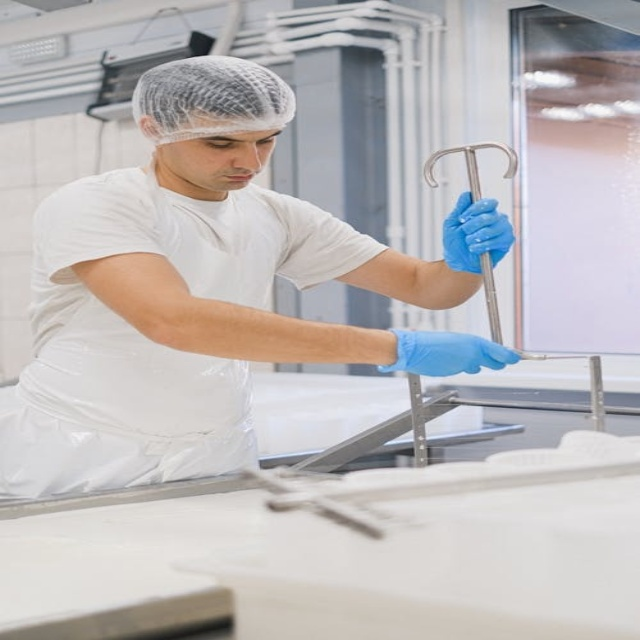Guantes: (377, 328, 523, 377), (441, 190, 515, 275)
Sin_gafas: (192, 127, 285, 150)
Sin_mascara: (204, 169, 262, 191)
